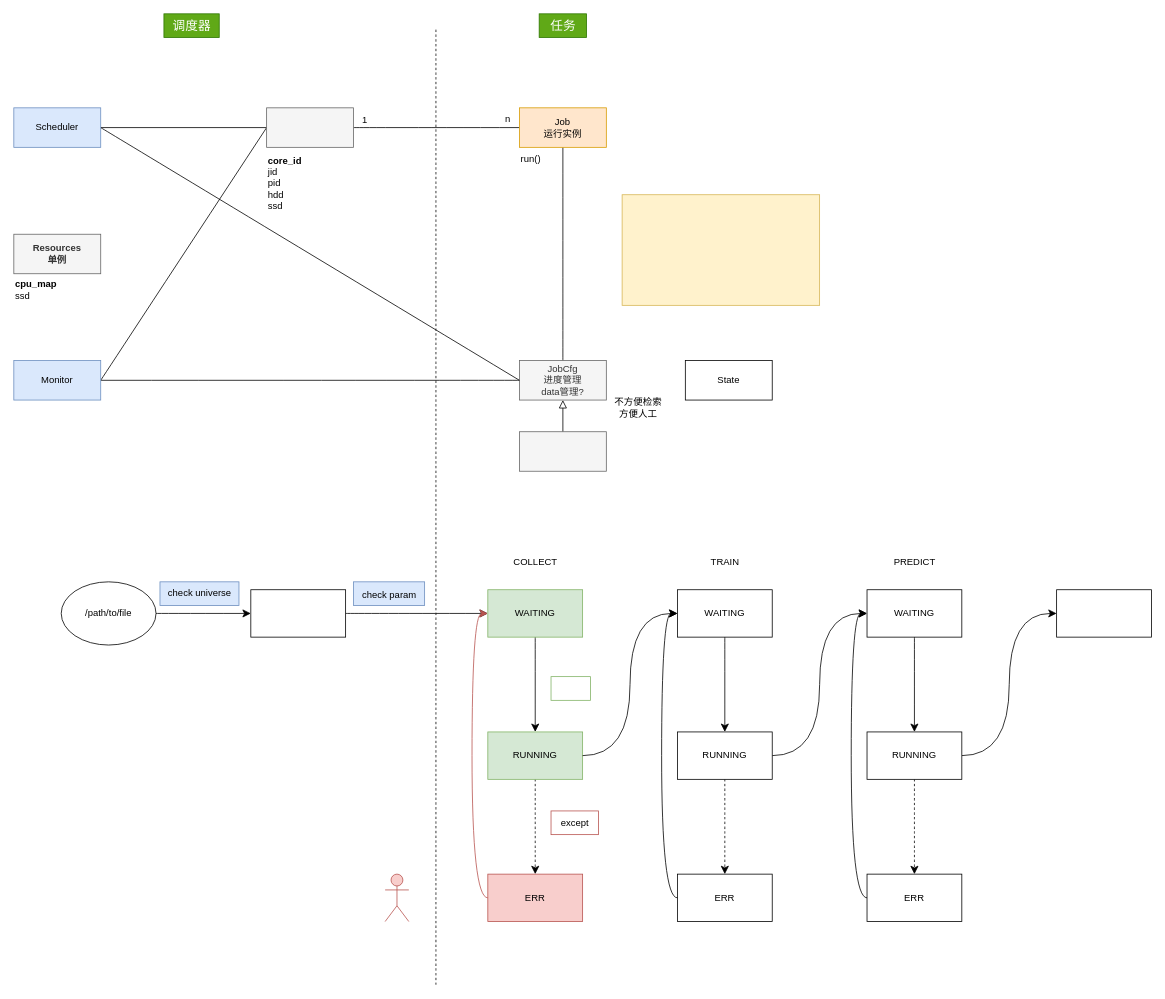
This 1165x999 diagram has some shape labels left out. Here are the shapes that lost their labels. From the top down, the centre of each, then its label:
point (310, 127): Proc 运行态系统信息
point (720, 249): 状态转移的更好设计 Job类定位模糊、职责过多 Job类初始化设计 Job类在Scheduler复用
point (562, 451): Jid
point (298, 613): TODO
point (1103, 613): DONE
point (570, 688): next
point (396, 897): Actor
